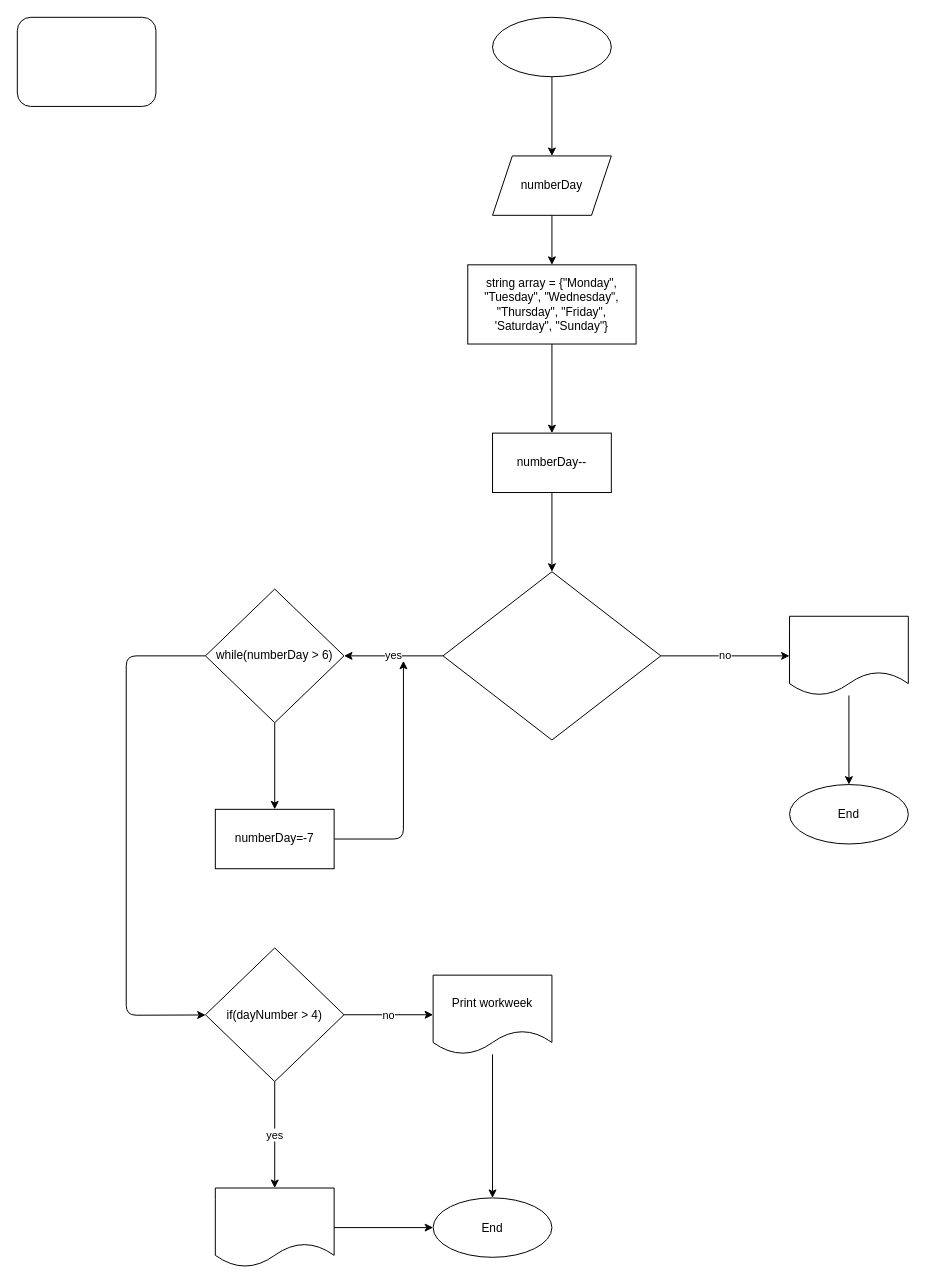
Some shapes in this 926 by 1285 pixel diagram are drawn without their labels. The shapes that lost their labels are listed below. From the top down, each one's centre as x and y in pixels, then its label:
At point (86, 61): "Дано число обозначающее день недели. Выяснить является номер дня недели выходным".
At point (551, 46): "Start".
At point (551, 655): "if(numberDay > 6 && numberDay < 31)".
At point (848, 655): "Print incorrect number day".
At point (274, 1227): "Print weekend".
